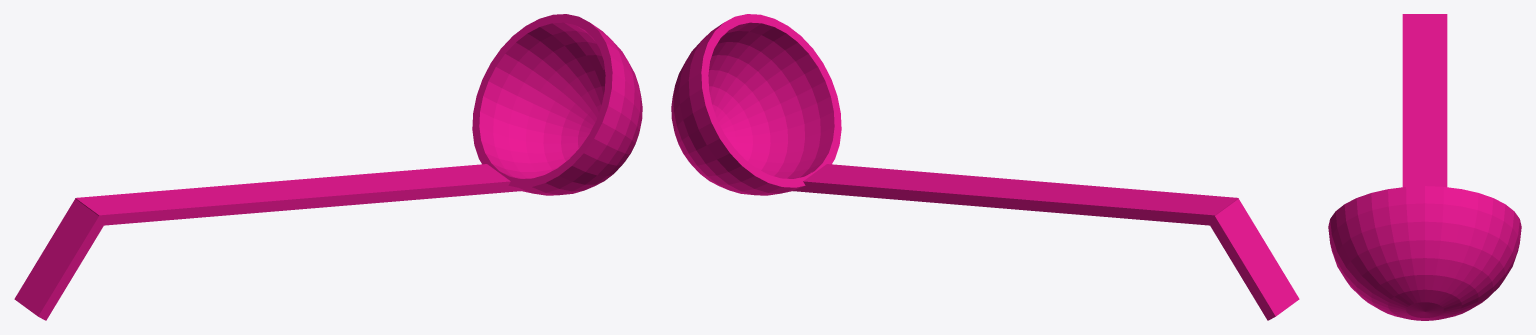
The picture shows the model from 3 angles, left to right: view 1: azimuth 30°, elevation 25°; view 2: azimuth 150°, elevation 25°; view 3: azimuth 270°, elevation 25°; orthographic projection. The views are drawn at different scales.
Visible parts, largest first — view 1: Spoon Pink; view 2: Spoon Pink; view 3: Spoon Pink.
Boxes of the visible parts, x1,y1,x2,y2 form: Spoon Pink: [14, 14, 642, 320]; Spoon Pink: [671, 14, 1299, 320]; Spoon Pink: [1328, 14, 1521, 320].
Bounding box in the file's own units: 0.3845 × 0.1143 × 0.0941.
